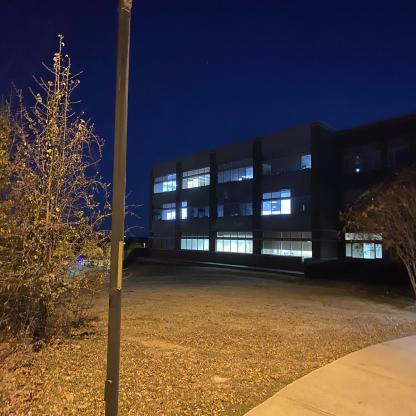eb2: (151, 114, 416, 284)
